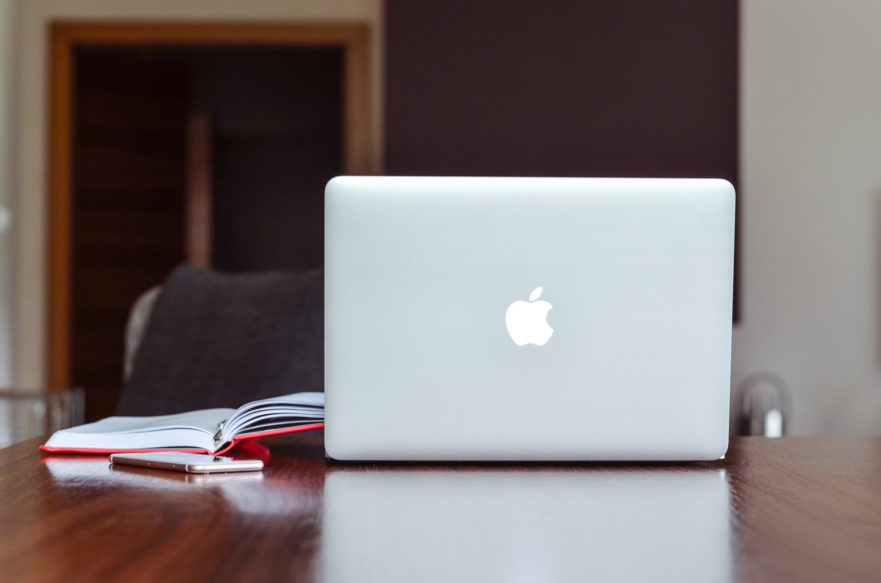Open Book: (42, 392, 333, 457)
